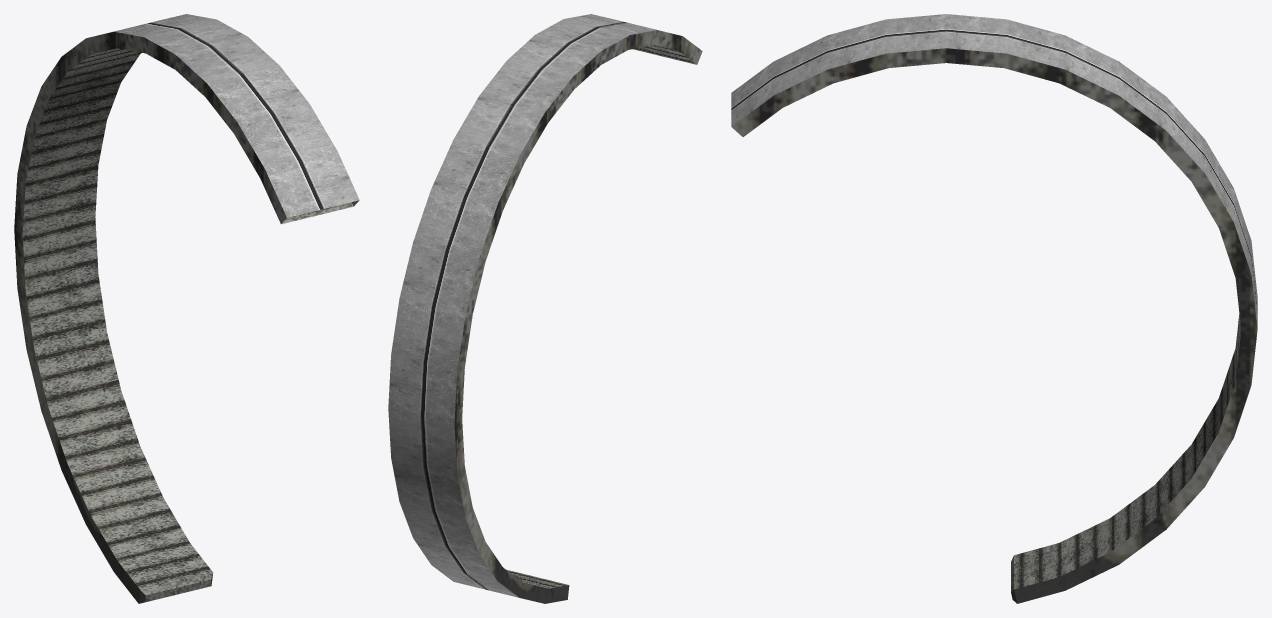
Rendered from Ob_StationWallConnector.fbx.
3 views of the same model, side by side, from view 1: azimuth 30°, elevation 25°; view 2: azimuth 150°, elevation 25°; view 3: azimuth 270°, elevation 25° (orthographic). The views are drawn at different scales.
Visible parts, largest first — view 1: Ob_StationWallConnector; view 2: Ob_StationWallConnector; view 3: Ob_StationWallConnector.
Part boxes in pixels (bbox=[...]): Ob_StationWallConnector: bbox=[14, 14, 359, 603]; Ob_StationWallConnector: bbox=[388, 14, 702, 603]; Ob_StationWallConnector: bbox=[731, 14, 1257, 603].
Bounding box in the file's own units: 309 × 2340 × 2008.
